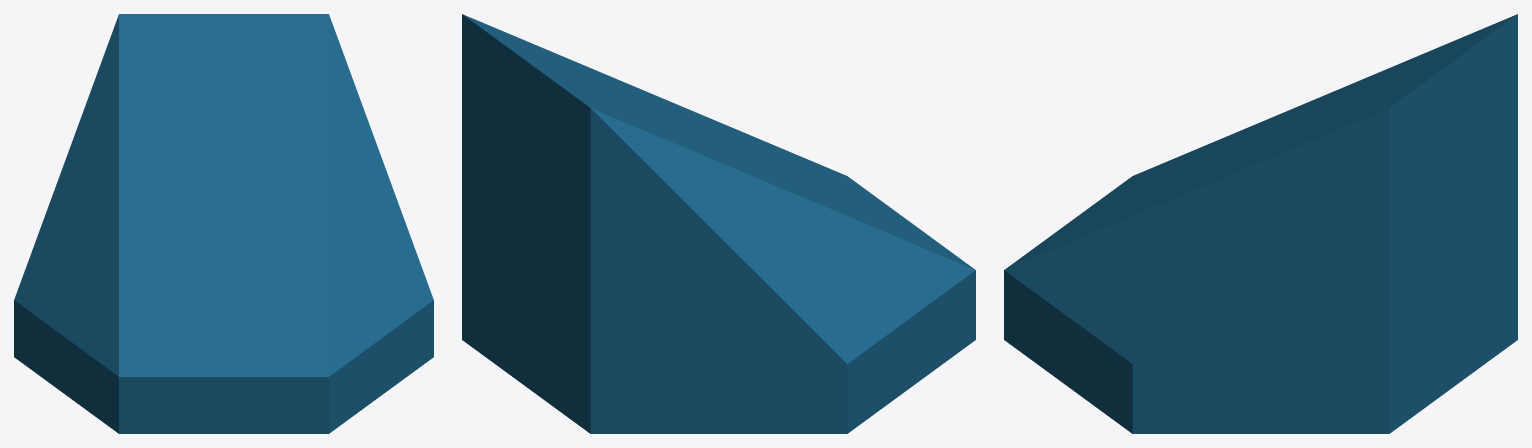
Rendered from deep_water2.glb.
3 views of the same model, side by side, from view 1: azimuth 30°, elevation 25°; view 2: azimuth 150°, elevation 25°; view 3: azimuth 270°, elevation 25° (orthographic). The views are drawn at different scales.
Parts seen in each view (by area): view 1: DeepWaterStairTileWater-col; view 2: DeepWaterStairTileWater-col; view 3: DeepWaterStairTileWater-col.
Part boxes in pixels (x1=…): DeepWaterStairTileWater-col: x1=14, y1=14, x2=433, y2=433; DeepWaterStairTileWater-col: x1=462, y1=14, x2=975, y2=433; DeepWaterStairTileWater-col: x1=1004, y1=14, x2=1517, y2=433.
Size of the model in its own units: 1.73 by 1.4 by 2.
1 material, 1 textured.
